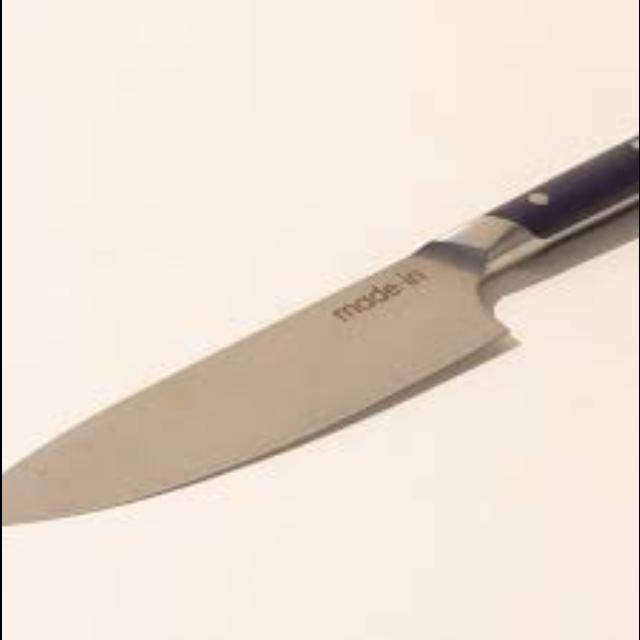Knife: (1, 72, 635, 532)
